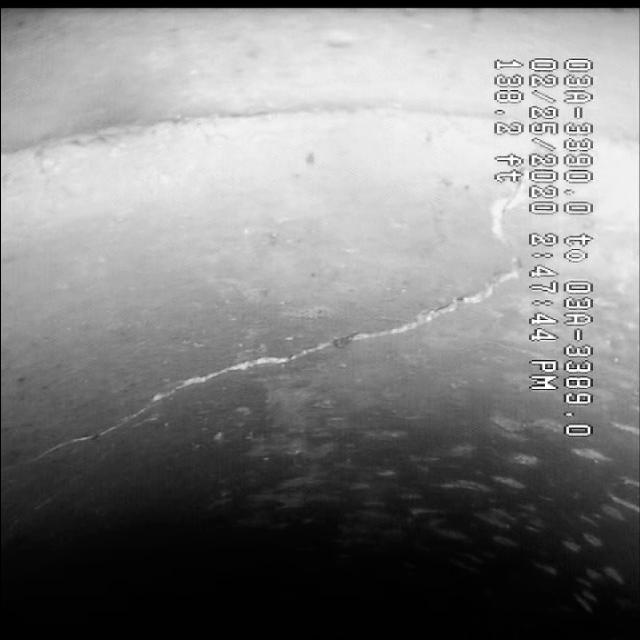Crack: (82, 292, 480, 434)
